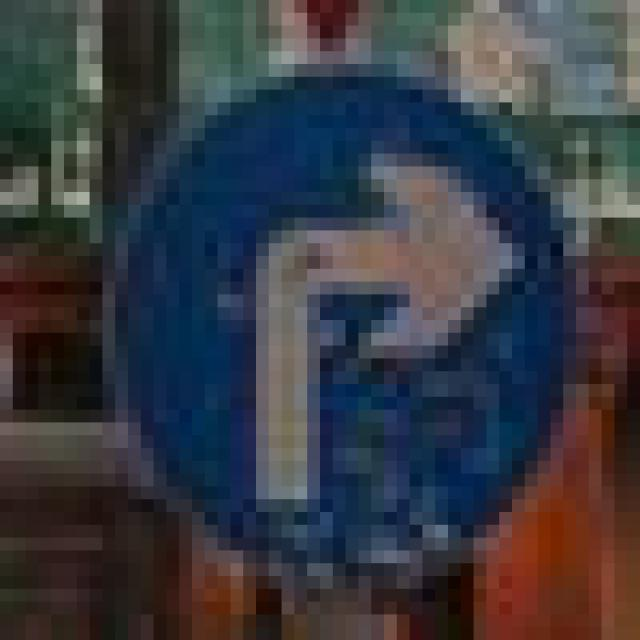railway_crossing: (90, 64, 550, 563)
